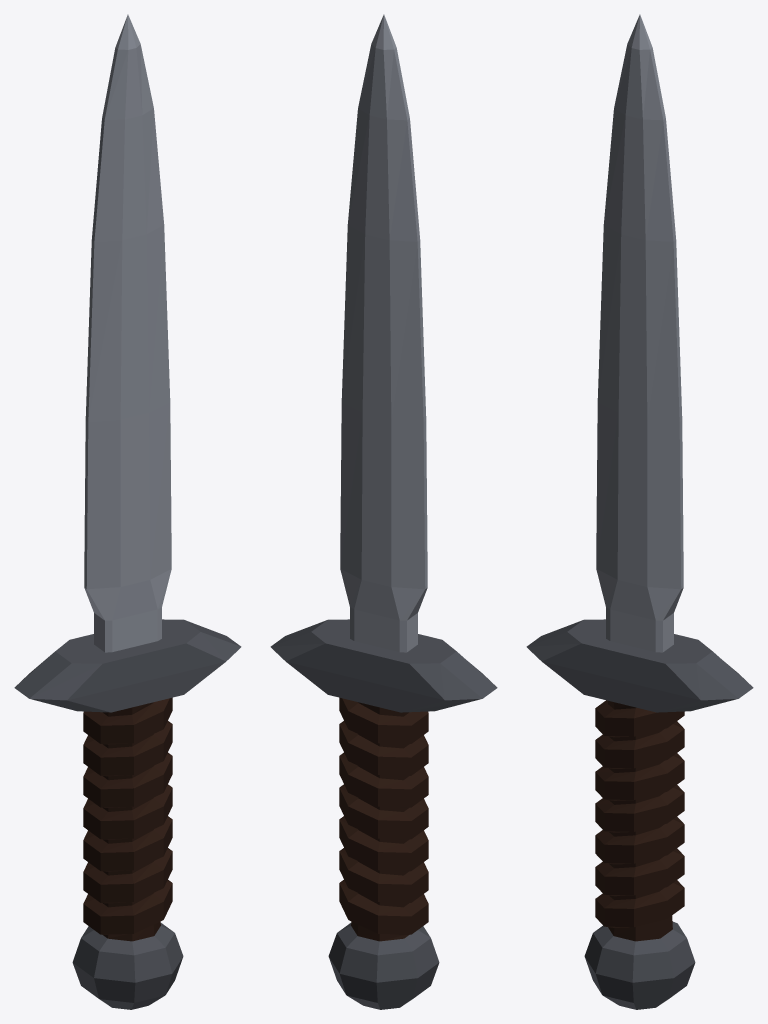
Rendered from iron-dagger.glb.
3 views of the same model, side by side, from view 1: azimuth 30°, elevation 25°; view 2: azimuth 150°, elevation 25°; view 3: azimuth 330°, elevation 25° (orthographic).
Parts seen in each view (by area): view 1: iron, leather, dark_iron; view 2: iron, leather, dark_iron; view 3: iron, leather, dark_iron.
Boxes of the visible parts, <box> form: iron: <box>84,14,171,652</box>; leather: <box>83,697,172,941</box>; dark_iron: <box>14,619,241,1009</box>; iron: <box>340,14,427,652</box>; leather: <box>339,697,428,941</box>; dark_iron: <box>270,619,497,1009</box>; iron: <box>596,14,683,652</box>; leather: <box>595,700,684,941</box>; dark_iron: <box>526,619,753,1009</box>.
Size of the model in its own units: 0.56 by 2.5 by 0.236.
